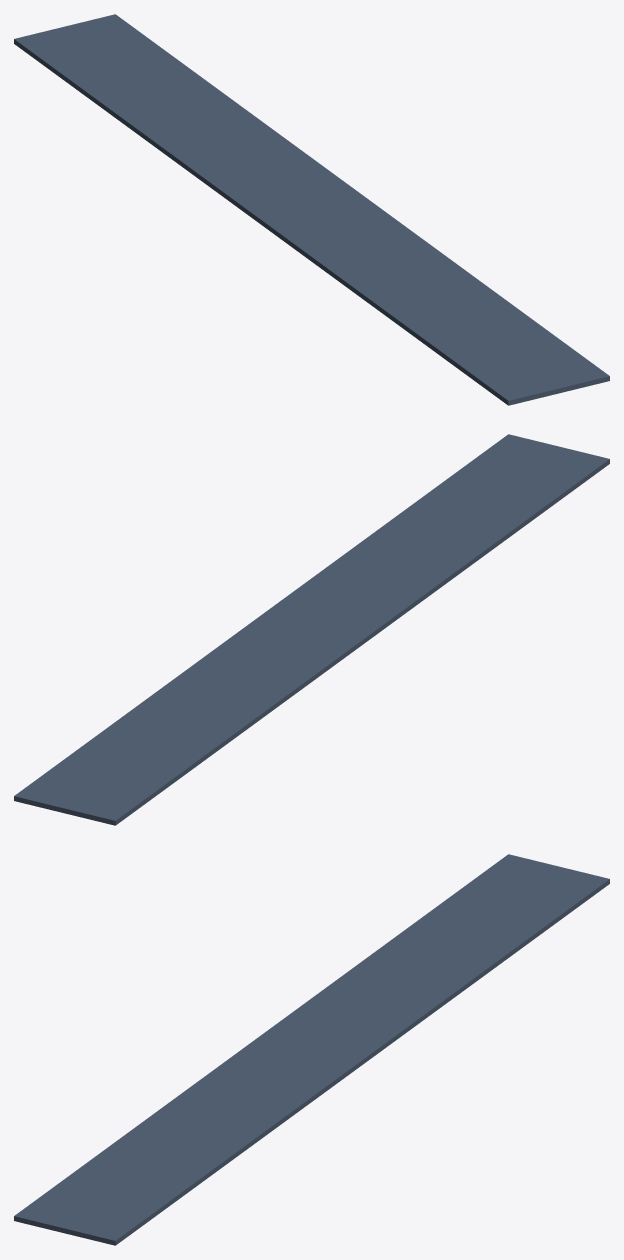
File: floor_008_t_utilities_floor_05.obj
3 renders of one model, top to bottom at view 1: azimuth 30°, elevation 25°; view 2: azimuth 150°, elevation 25°; view 3: azimuth 330°, elevation 25°, orthographic.
Parts seen in each view (by area): view 1: Floor_008_t_utilities_floor_05; view 2: Floor_008_t_utilities_floor_05; view 3: Floor_008_t_utilities_floor_05.
Part boxes in pixels (bbox=[...]): Floor_008_t_utilities_floor_05: bbox=[14, 14, 609, 405]; Floor_008_t_utilities_floor_05: bbox=[14, 434, 609, 825]; Floor_008_t_utilities_floor_05: bbox=[14, 854, 609, 1245].
Size of the model in its own units: 4.35 by 0.2 by 36.7.
